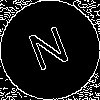N: (25, 25, 75, 81)
